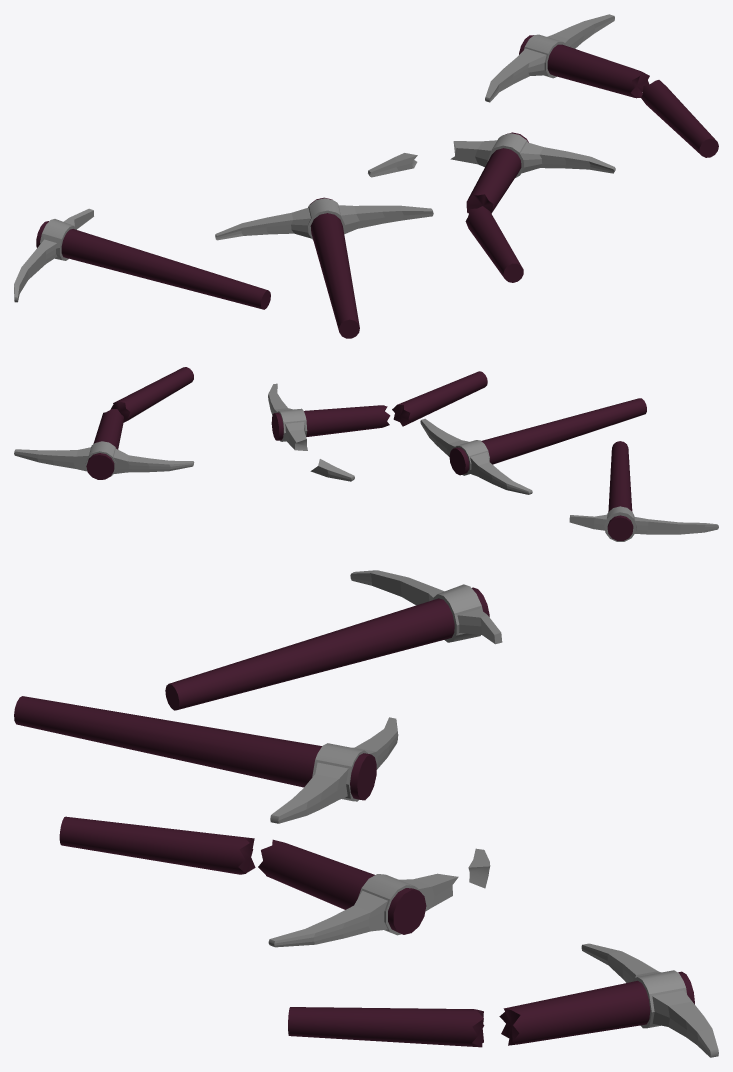
File: Picos FBX.fbx
3 views of the same model, one above another, from view 1: azimuth 30°, elevation 25°; view 2: azimuth 150°, elevation 25°; view 3: azimuth 270°, elevation 25° (orthographic). The views are drawn at different scales.
Parts seen in each view (by area): view 1: Pico4, Pico3, Pico1, Pico2; view 2: Pico2, Pico3, Pico4, Pico1; view 3: Pico3, Pico4, Pico2, Pico1.
Boxes of the visible parts, x1,y1,x2,y2 form: Pico4: (485, 14, 718, 157); Pico3: (368, 132, 615, 282); Pico1: (14, 208, 270, 309); Pico2: (215, 197, 433, 338); Pico2: (420, 398, 646, 494); Pico3: (268, 371, 487, 481); Pico4: (14, 367, 194, 479); Pico1: (569, 441, 718, 541); Pico3: (59, 816, 490, 947); Pico4: (288, 943, 718, 1057); Pico2: (14, 696, 398, 823); Pico1: (165, 570, 502, 710).
Size of the model in its own units: 0.1262 by 0.00682 by 0.0764.
